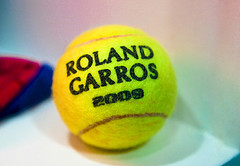tennis ball: (51, 23, 178, 151)
